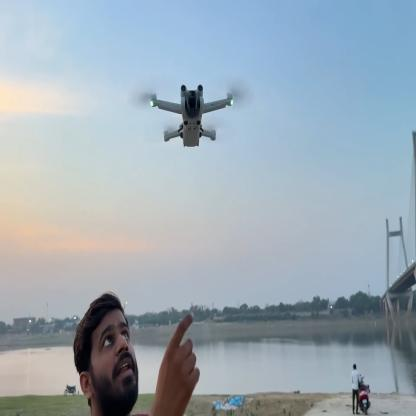drone: (136, 72, 252, 162)
